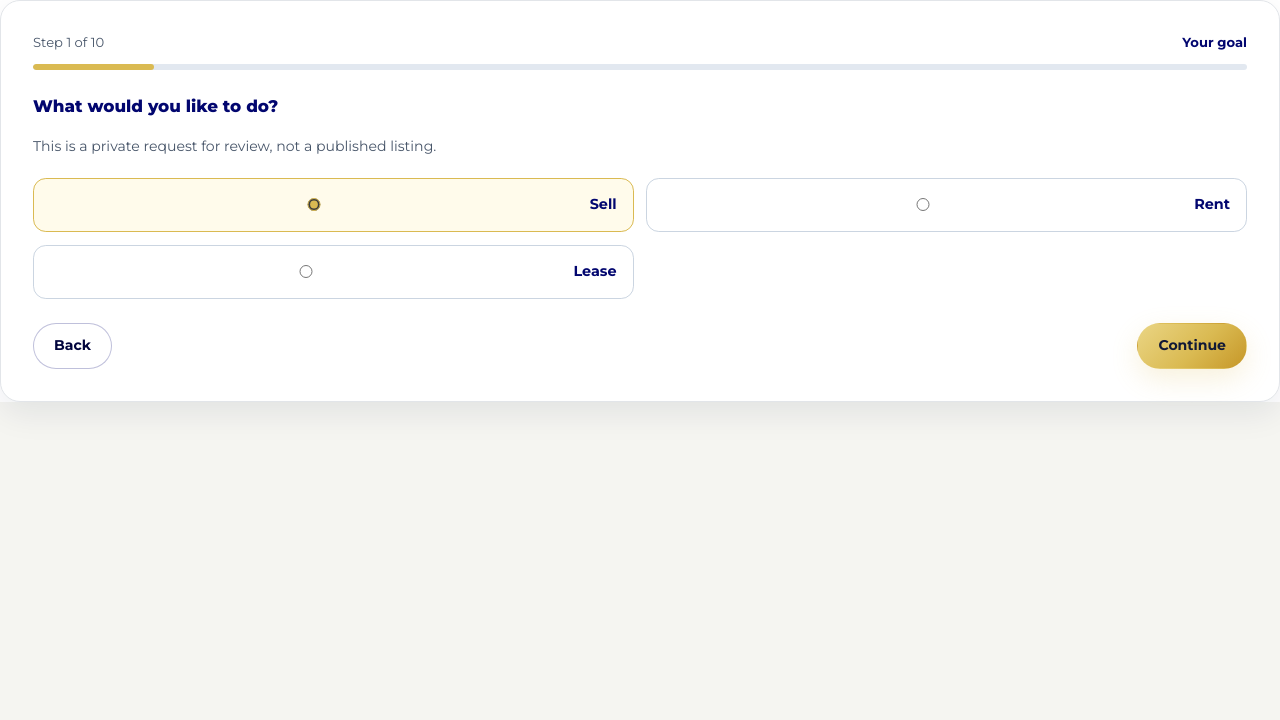
Test: M15 owner submission wizard › moves through intent and land type without losing the selected category
Click the button "Continue" at (1192, 346), box top-left (1138, 323), bottom-right (1247, 369)
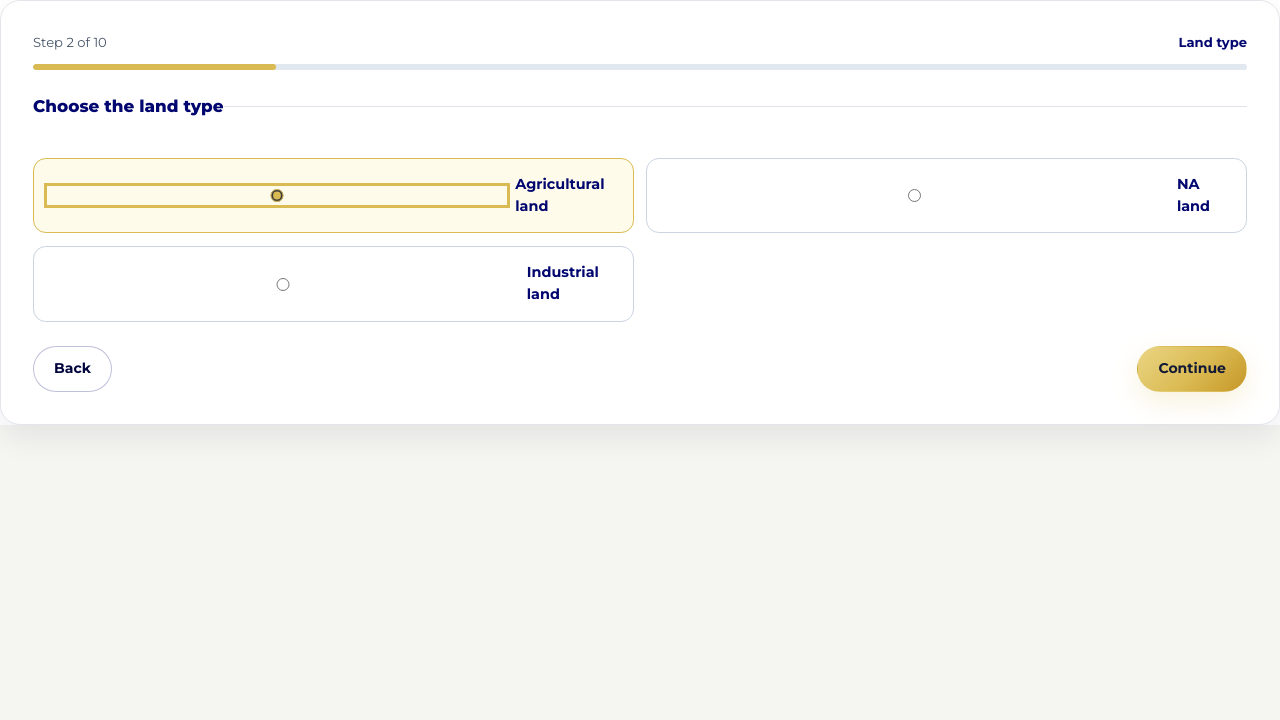
Expected: the text "Step 2 of 10" is shown, top-left (33, 33), bottom-right (107, 53)
Click the text "Industrial land" at (563, 283), box top-left (527, 263), bottom-right (599, 303)
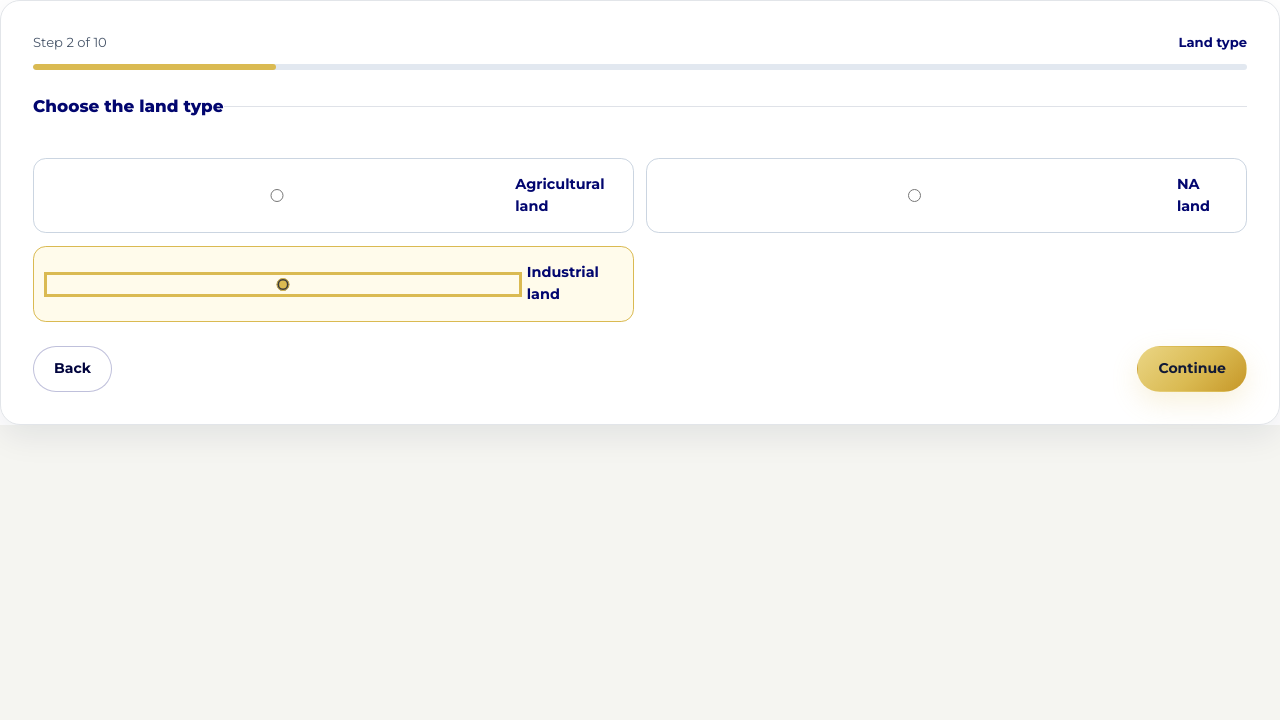
Click the button "Continue" at (1192, 369), box top-left (1138, 346), bottom-right (1247, 392)
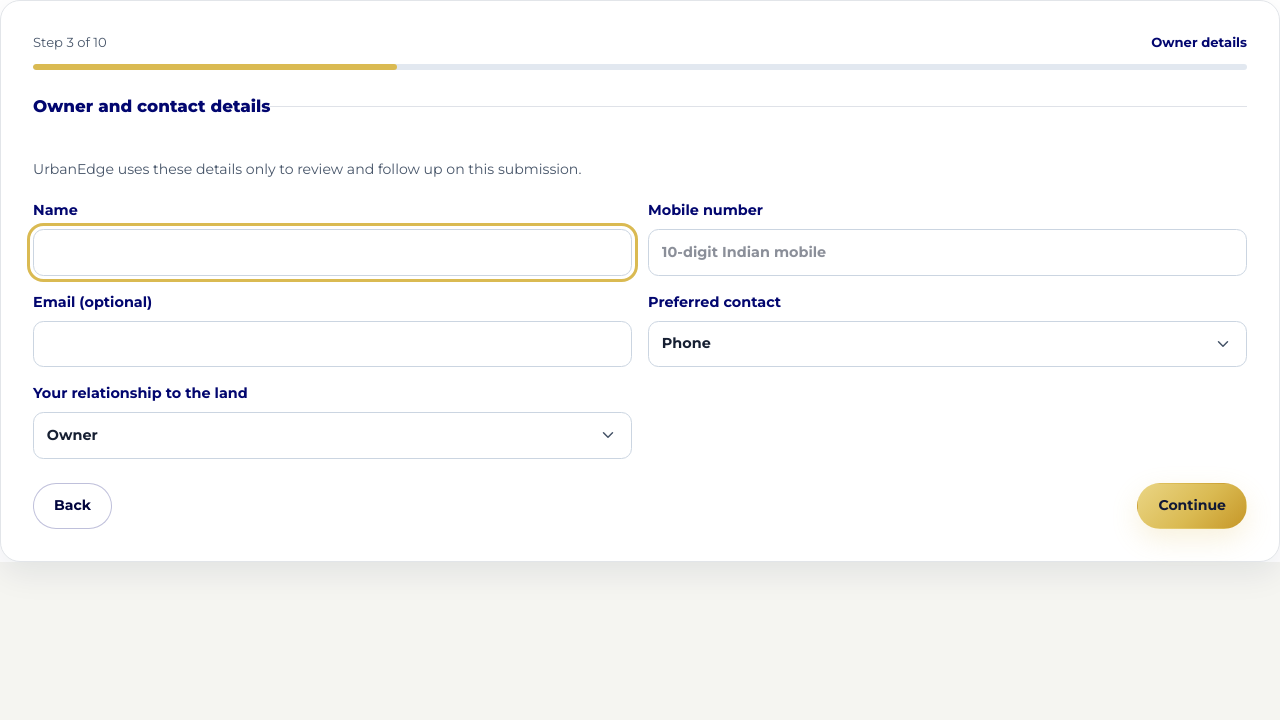
Expected: the text "Step 3 of 10" is shown, top-left (33, 33), bottom-right (107, 53)
